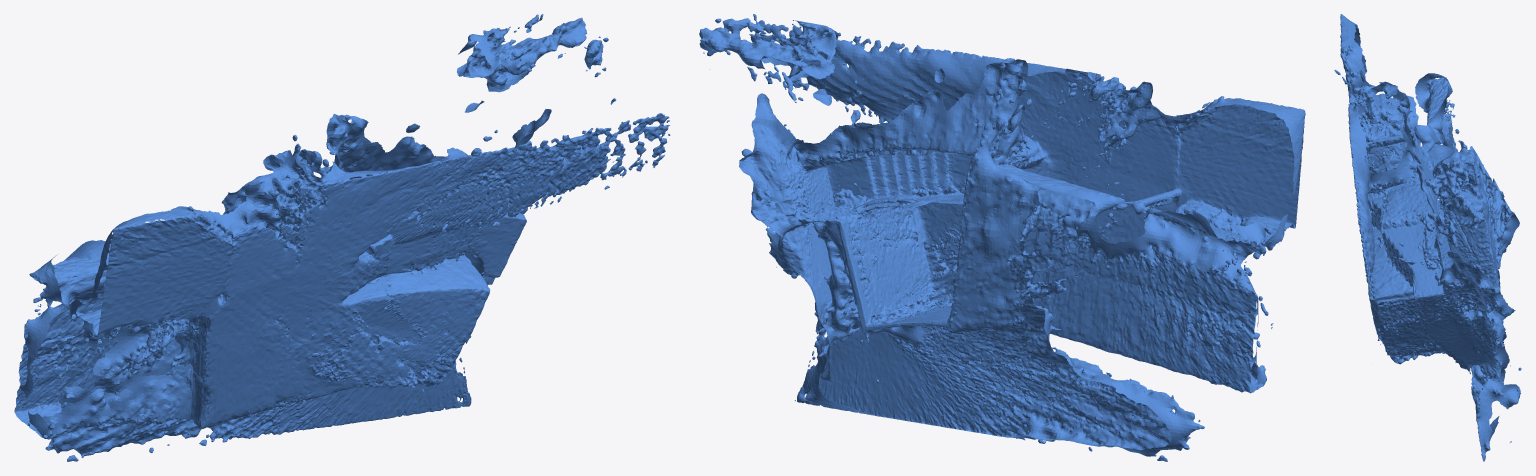
File: car 1.fbx
3 renders of one model, left to right at view 1: azimuth 30°, elevation 25°; view 2: azimuth 150°, elevation 25°; view 3: azimuth 270°, elevation 25°, orthographic. The views are drawn at different scales.
Parts seen in each view (by area): view 1: Model; view 2: Model; view 3: Model.
Boxes of the visible parts, box(x1,y1,x2,y2) form: Model: box(14, 14, 670, 461); Model: box(699, 14, 1305, 461); Model: box(1334, 14, 1521, 461).
Size of the model in its own units: 46.6 by 16.19 by 29.09.
